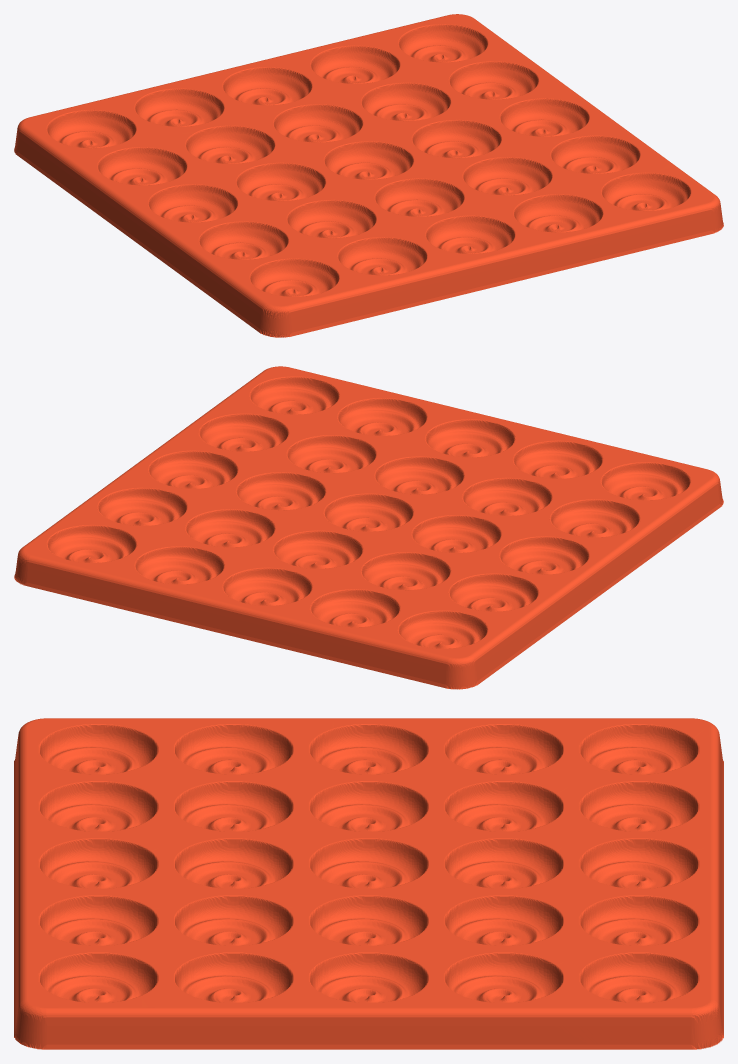
The model's file is mold.glb.
3 renders of one model, top to bottom at view 1: azimuth 30°, elevation 25°; view 2: azimuth 150°, elevation 25°; view 3: azimuth 270°, elevation 25°, orthographic. The views are drawn at different scales.
Visible parts, largest first — view 1: geometry_0; view 2: geometry_0; view 3: geometry_0.
Part boxes in pixels (left/top/right/bottom): geometry_0: left=14, top=14, right=723, bottom=337; geometry_0: left=14, top=366, right=723, bottom=689; geometry_0: left=14, top=718, right=723, bottom=1049.
Bounding box in the file's own units: 0.193 × 0.0108 × 0.193.
